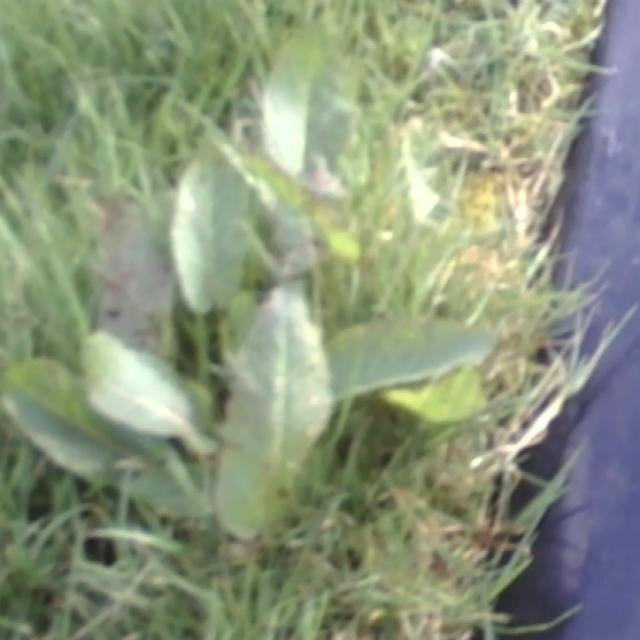organic waste: (0, 23, 490, 552)
